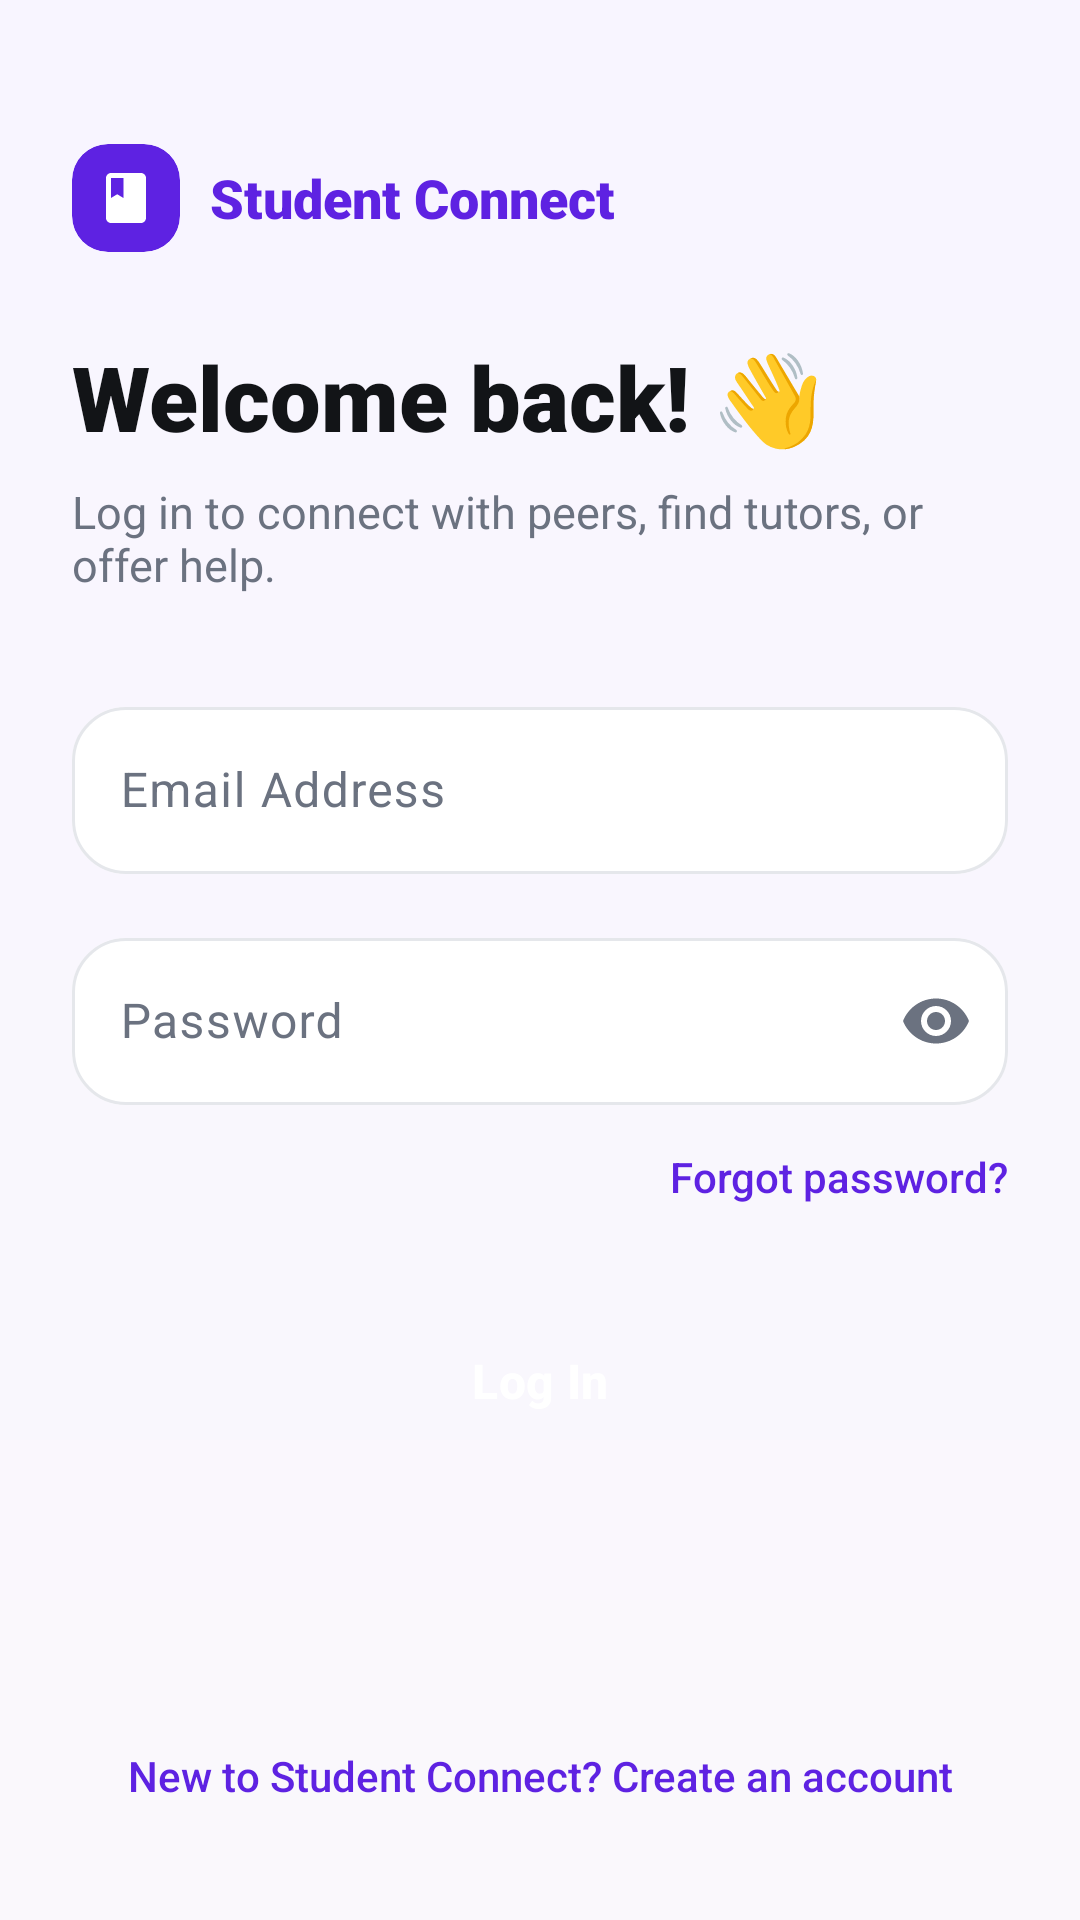

Screen size 1080 x 1920. Icon name, then its box in pixels as (x1=x1, y1=y1, x2=x2, y2=y2):
book: (x1=106, y1=173, x2=146, y2=223)
